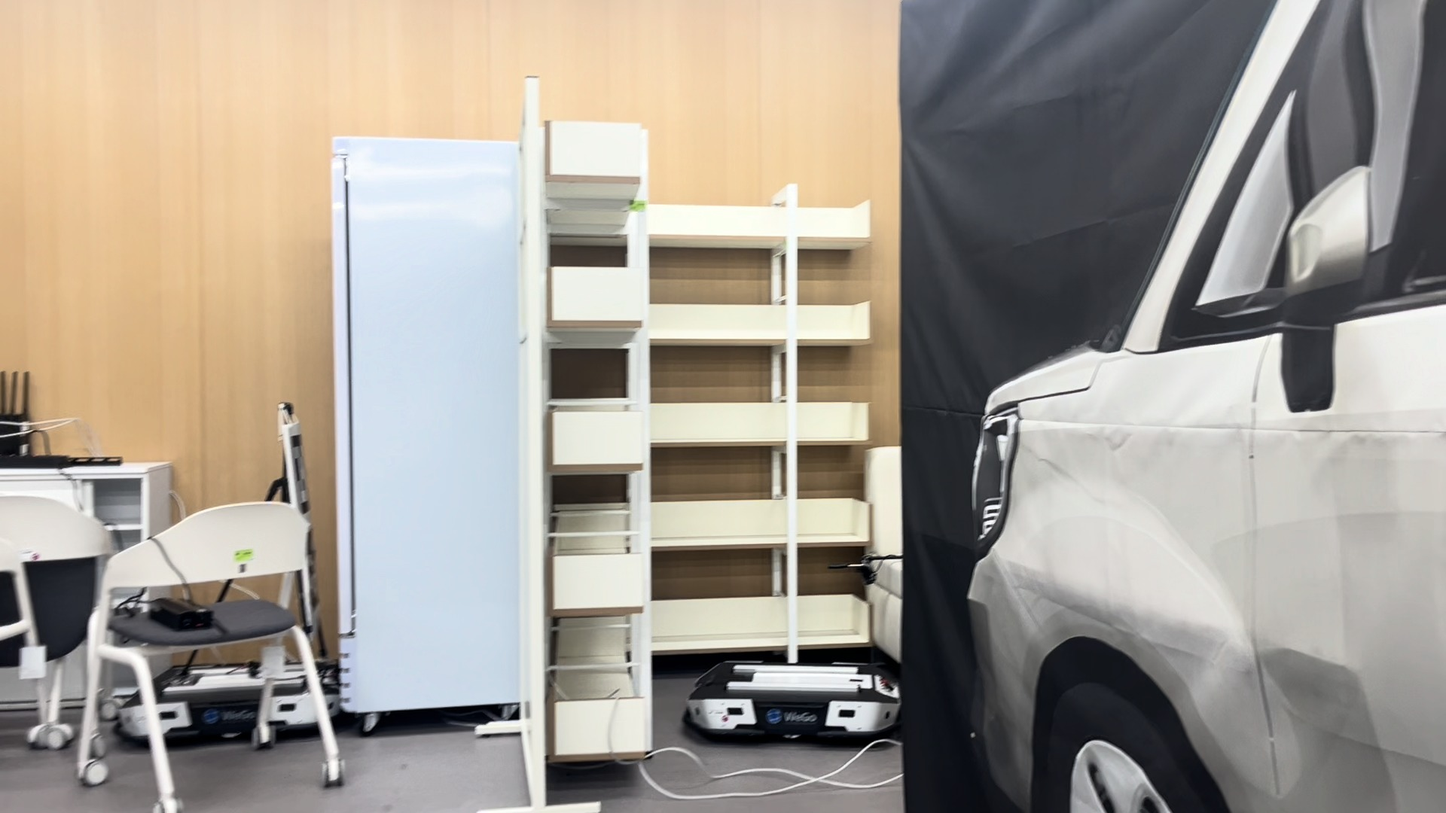side_mirror: (1281, 167, 1369, 412)
